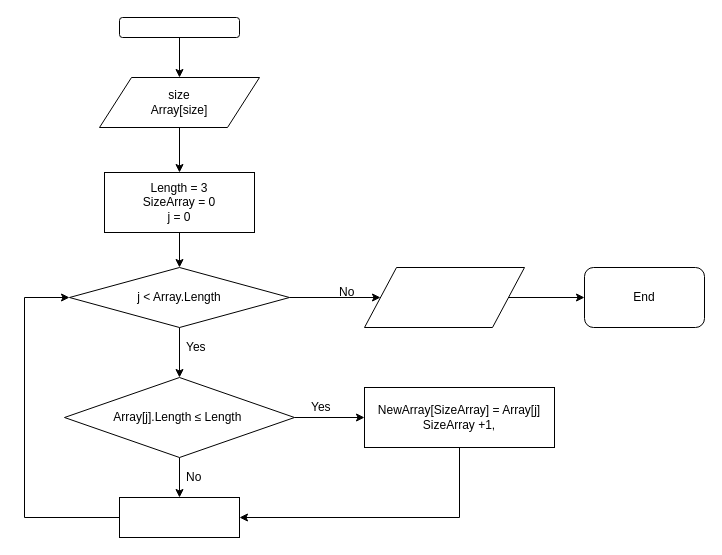
The diagram is 722 pixels wide and 555 high, and some of its shapes have lost their labels. Here are the shapes that lost their labels. From the top down, the centre of each, then its label:
At point 179,27: "Start".
At point 444,297: "NewArray[SizeArray]".
At point 179,517: "j +1".
